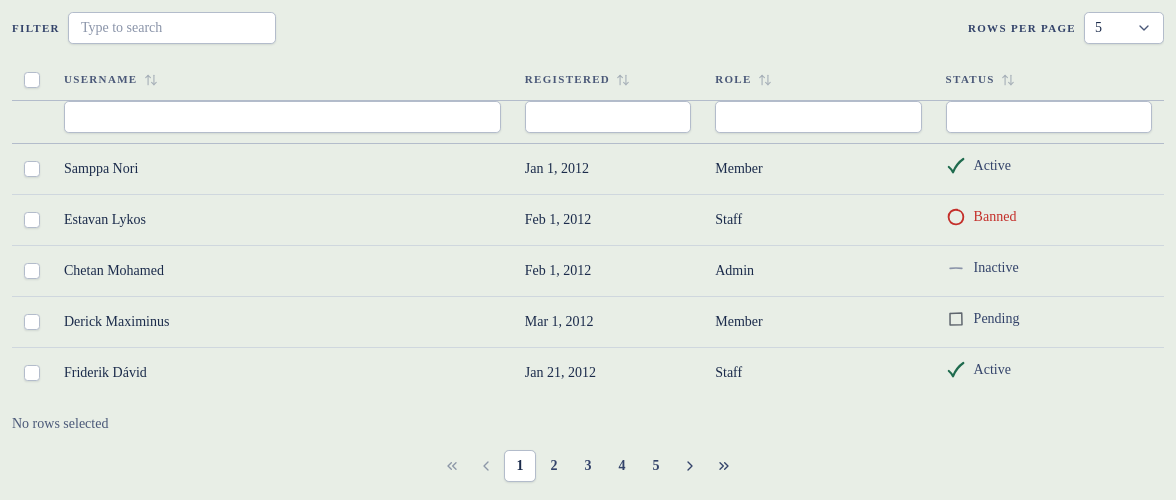
Test case: SelectTable › filters by the localized status and counts the selected rows
This screenshot has width=1176, height=500.
Type "pending" into the search field named "Filter by Status". click: (1049, 116)
box: [946,100,1152,132]
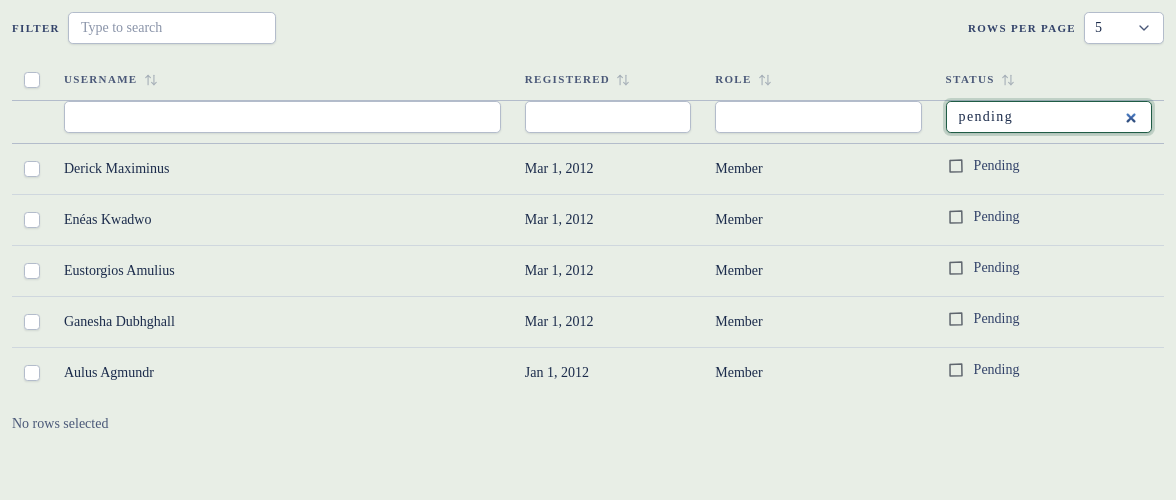
Click the checkbox named "Select all rows". click: (32, 80)
box: [24,72,40,88]
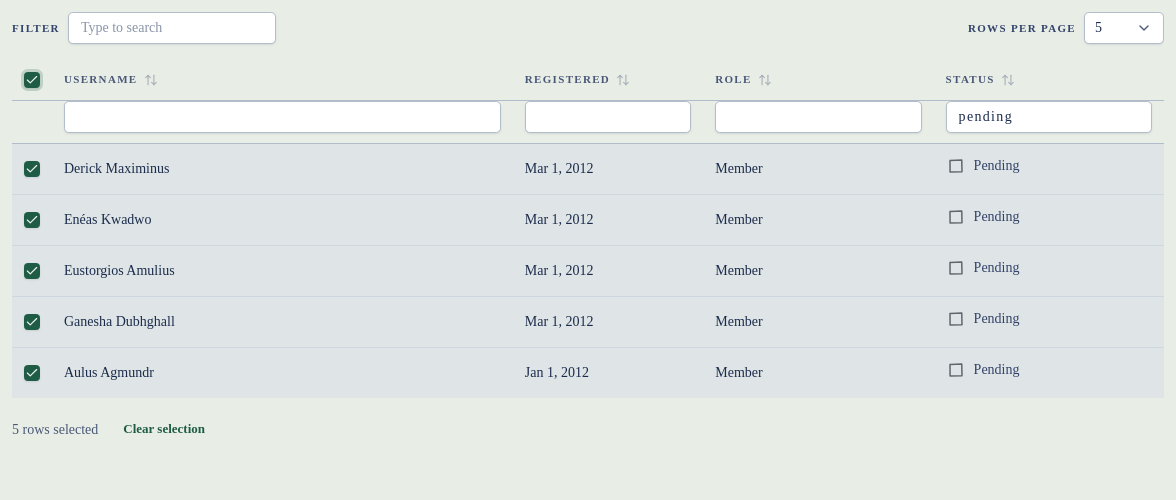
Now the text "5 rows selected" is shown, box [12,420,98,440]
